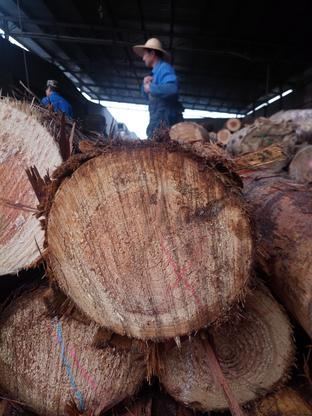mood: (43, 140, 254, 339)
